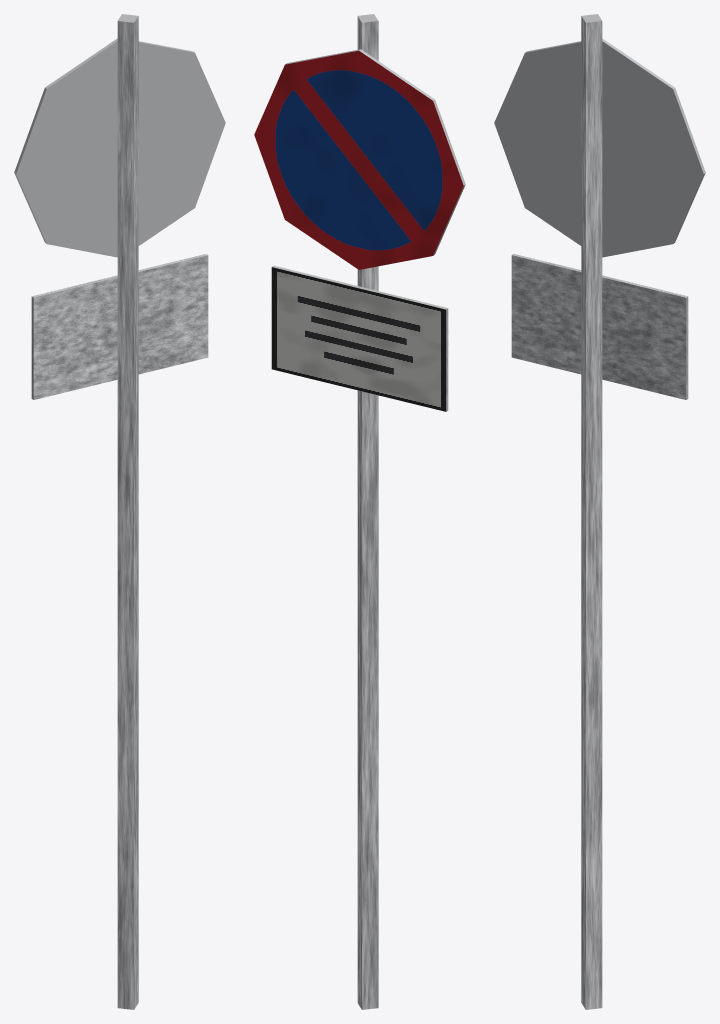
File: SM_Morin_CartelloDivieto_LOD2.fbx
3 renders of one model, left to right at view 1: azimuth 30°, elevation 25°; view 2: azimuth 150°, elevation 25°; view 3: azimuth 330°, elevation 25°, orthographic.
Parts seen in each view (by area): view 1: SM_Morin_CartelloDivieto_LOD2; view 2: SM_Morin_CartelloDivieto_LOD2; view 3: SM_Morin_CartelloDivieto_LOD2.
Boxes of the visible parts, x1=… form: SM_Morin_CartelloDivieto_LOD2: x1=14, y1=14, x2=225, y2=1009; SM_Morin_CartelloDivieto_LOD2: x1=254, y1=14, x2=465, y2=1009; SM_Morin_CartelloDivieto_LOD2: x1=494, y1=14, x2=705, y2=1009.
Bounding box in the file's own units: 60 × 7.5 × 270.
Materials: 1 (1 with a texture image).
